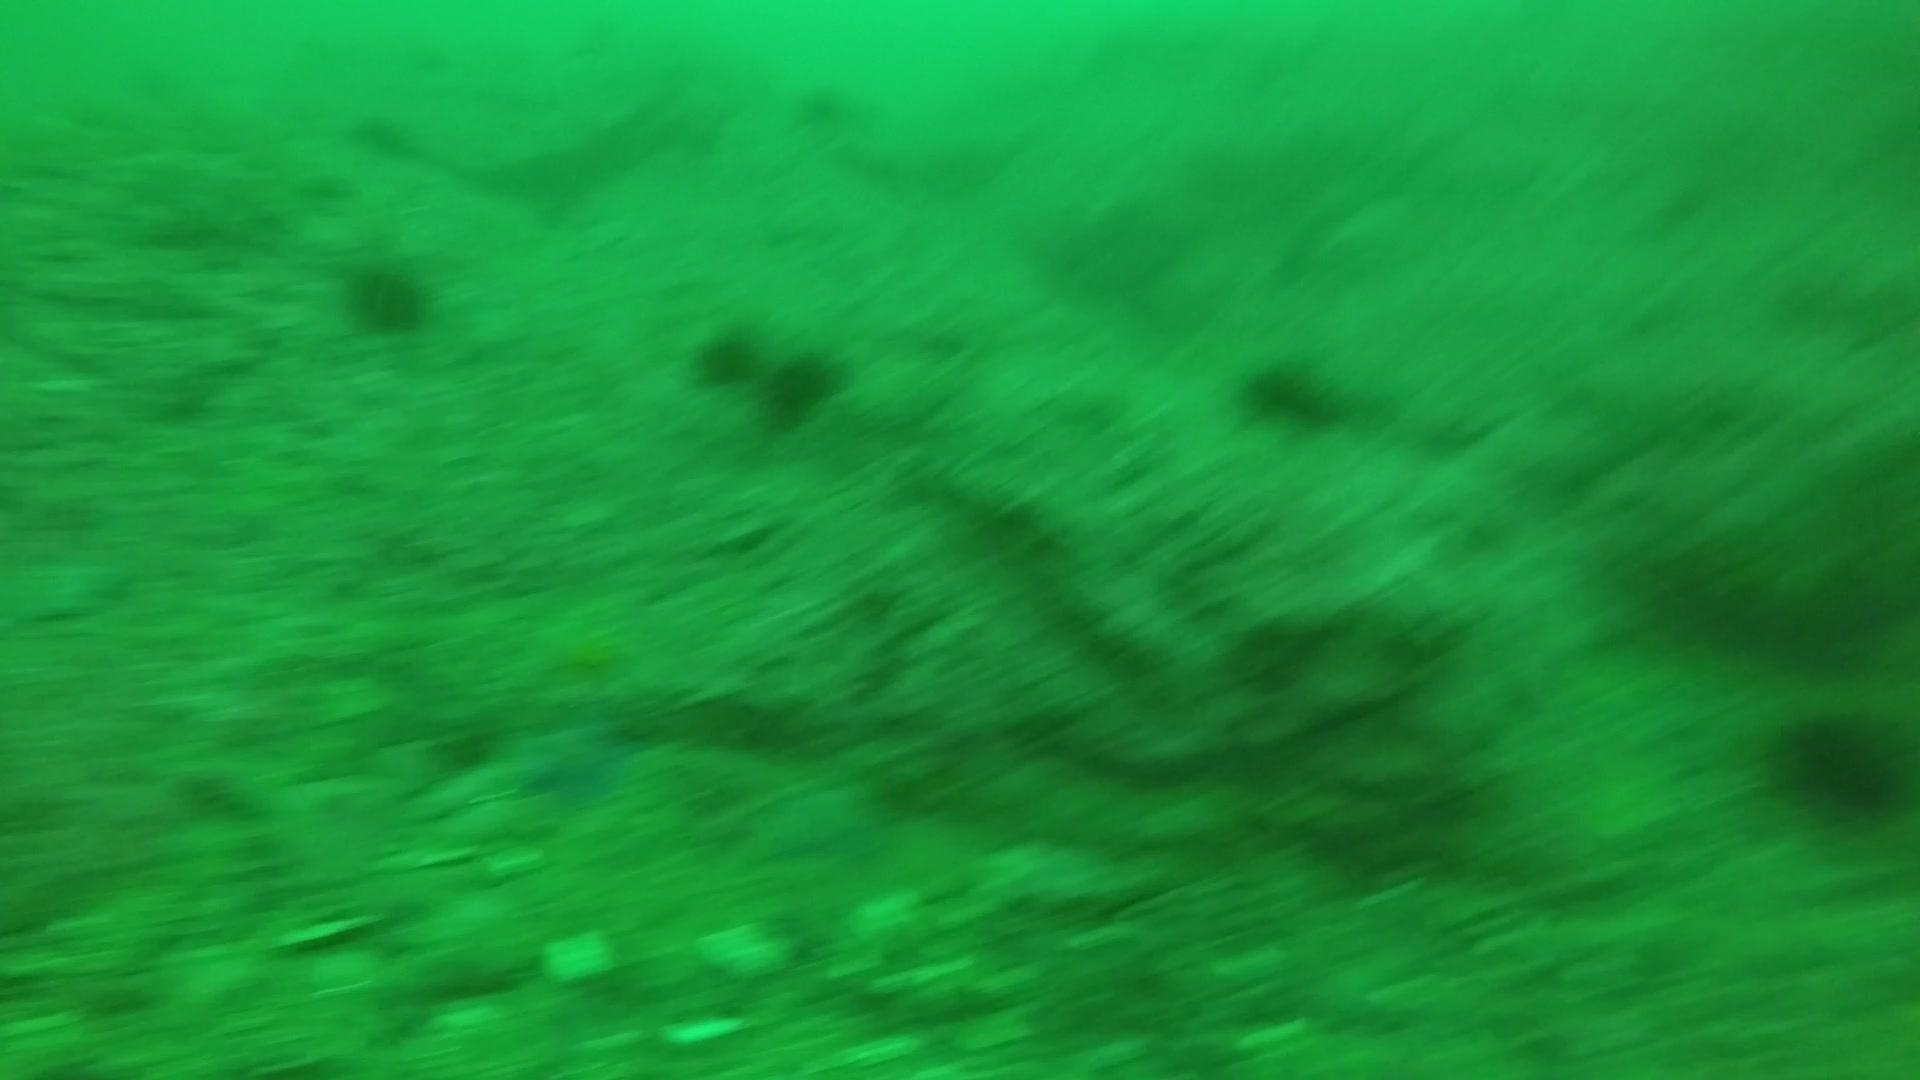echinus: (1764, 700, 1913, 823), (1234, 348, 1350, 436), (336, 251, 439, 342), (752, 339, 848, 430), (686, 318, 767, 396)
starfish: (502, 711, 637, 807)
